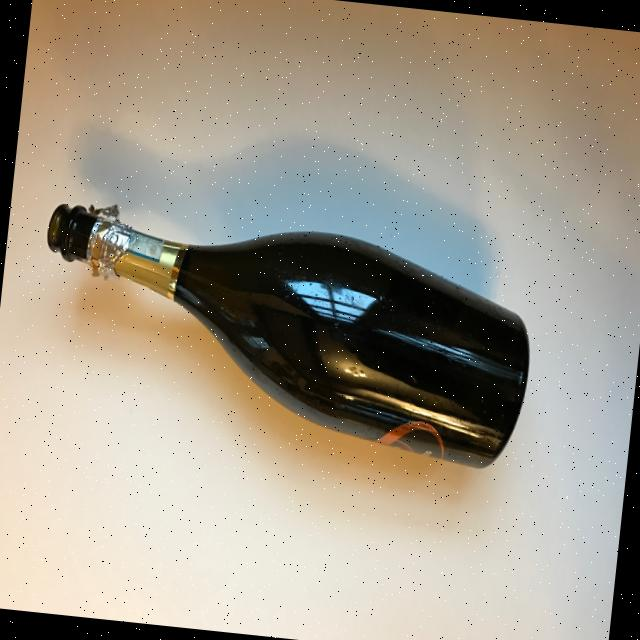glass: (27, 195, 542, 473)
